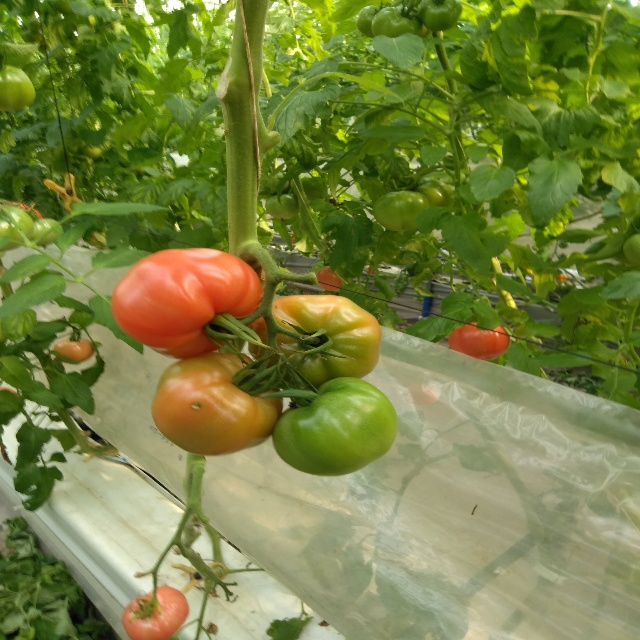b_fully_ripened: (111, 247, 268, 360), (448, 322, 510, 361)
b_green: (272, 377, 399, 477), (372, 191, 430, 231), (0, 63, 36, 111), (0, 205, 35, 252), (410, 176, 454, 207), (372, 13, 419, 41), (23, 218, 63, 247), (265, 194, 299, 219), (420, 13, 462, 31), (355, 13, 378, 38)
b_half_ripened: (151, 352, 284, 457), (248, 294, 383, 394), (121, 586, 191, 640), (53, 336, 95, 365), (316, 266, 353, 291)
